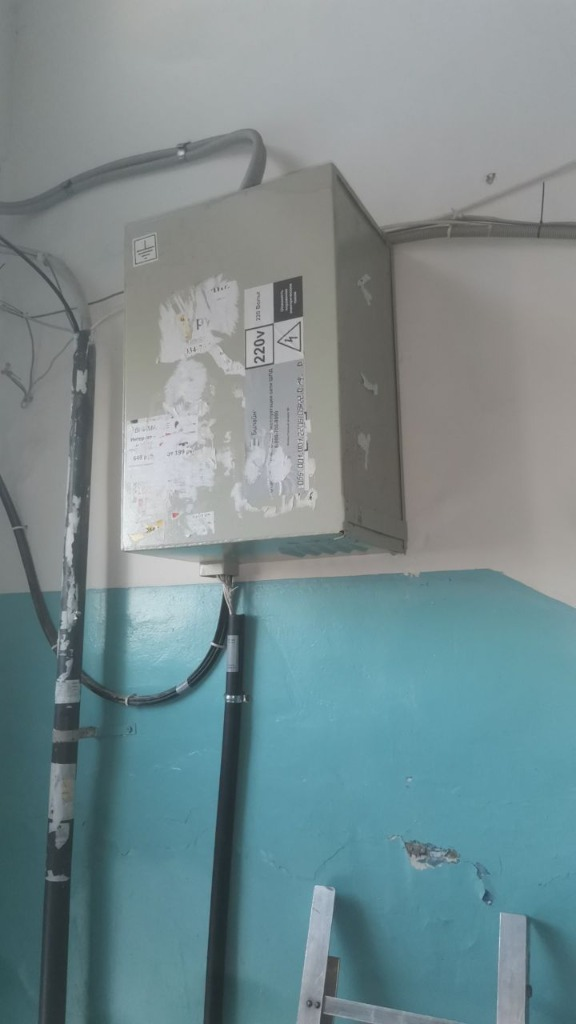sv-5: (111, 150, 410, 571)
